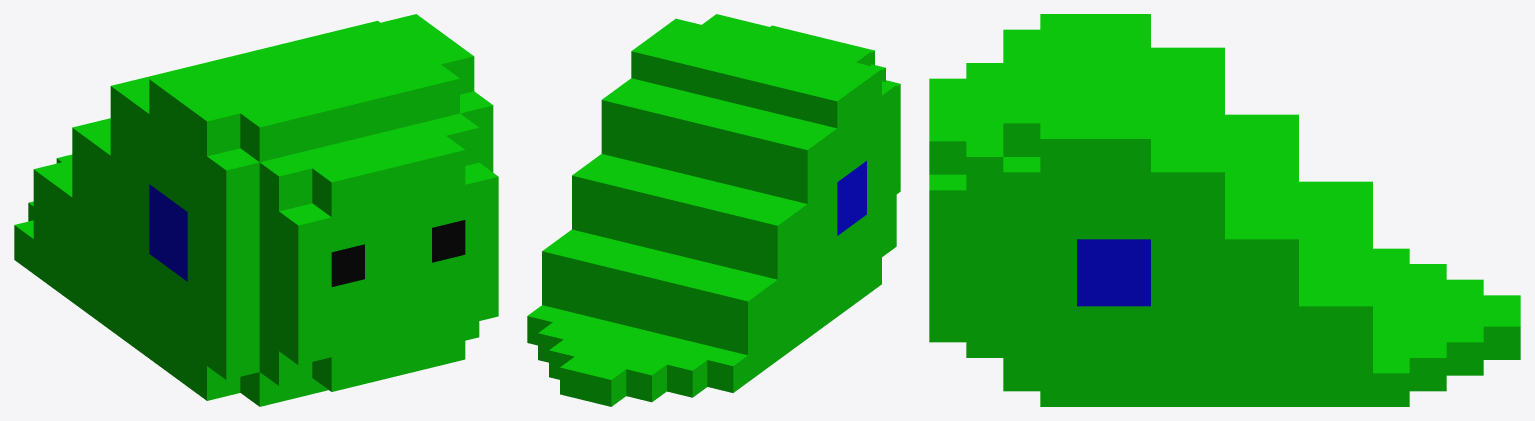
The model's file is run green slime.obj.
The picture shows the model from 3 angles, left to right: view 1: azimuth 30°, elevation 25°; view 2: azimuth 150°, elevation 25°; view 3: azimuth 270°, elevation 25°; orthographic projection. The views are drawn at different scales.
Size of the model in its own units: 0.8 by 0.8 by 1.6.
1 material, 1 textured.
